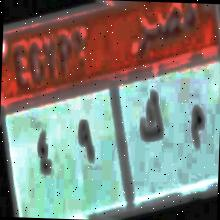4: (30, 123, 56, 189)
9: (75, 107, 98, 167)
kaaf: (136, 83, 166, 151)
meem: (183, 100, 207, 154)
